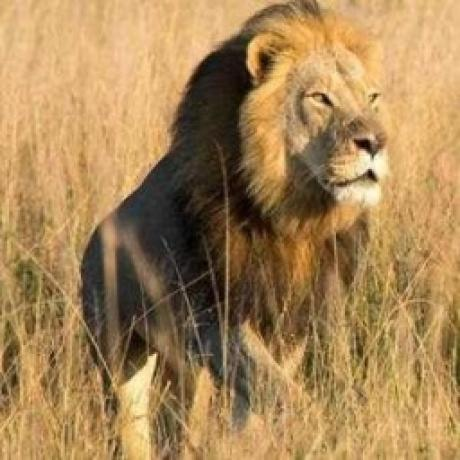Lion: (77, 0, 401, 413)
